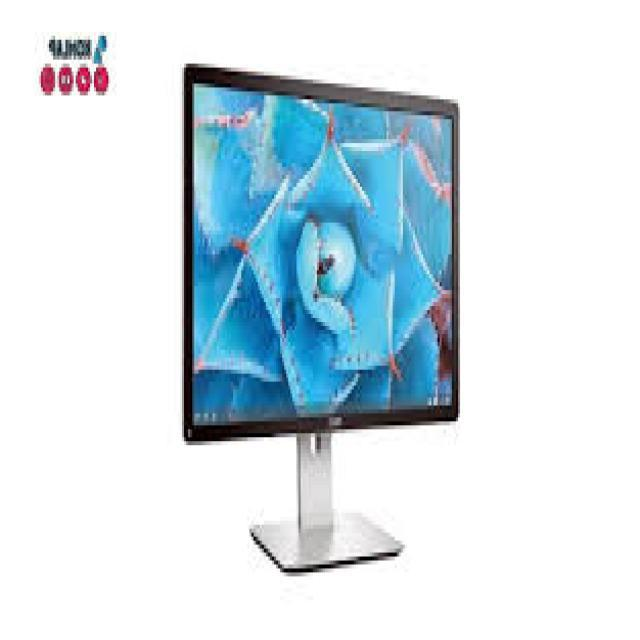monitor: (148, 57, 506, 579)
